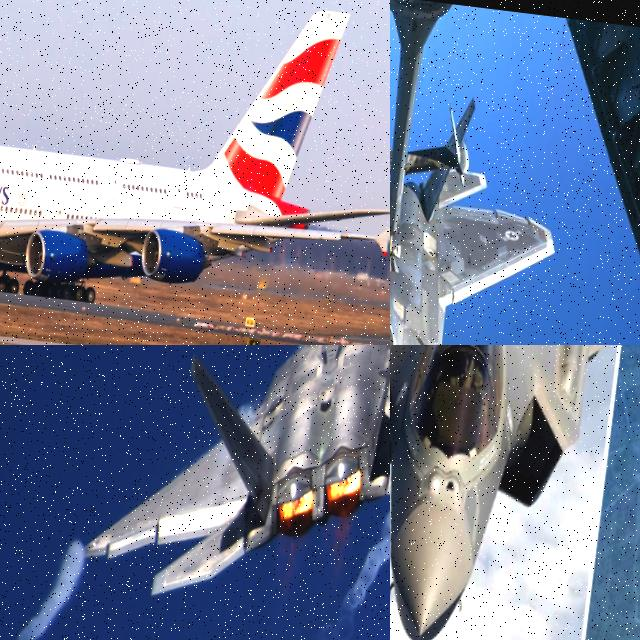A380: (0, 0, 390, 342)
F22: (75, 345, 390, 640), (390, 345, 640, 640), (390, 89, 569, 345), (576, 345, 640, 640)
